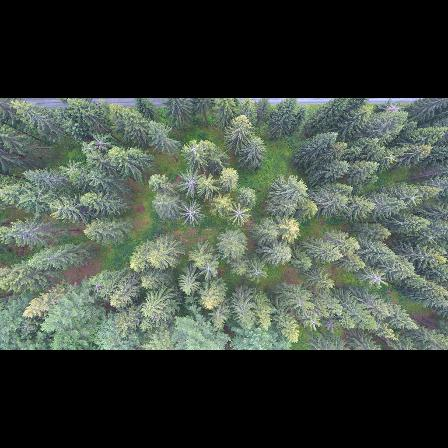Sick: (178, 169, 205, 199), (85, 134, 117, 159), (223, 203, 254, 228), (178, 201, 206, 228), (197, 259, 222, 282), (367, 270, 391, 290), (246, 265, 270, 283)
